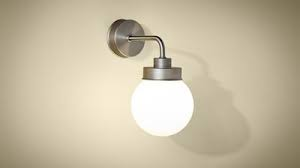bulb: (127, 69, 209, 142)
